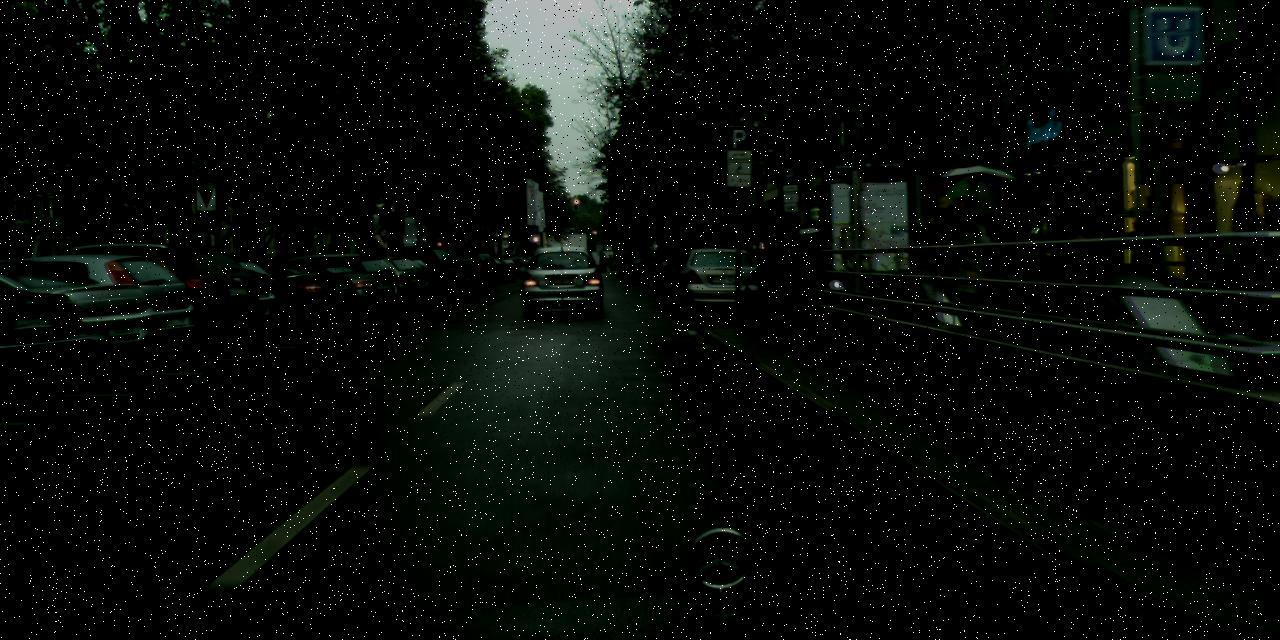ped: (938, 197, 1001, 352), (910, 196, 971, 346), (1067, 218, 1102, 308), (1126, 216, 1158, 294), (795, 234, 815, 283)
